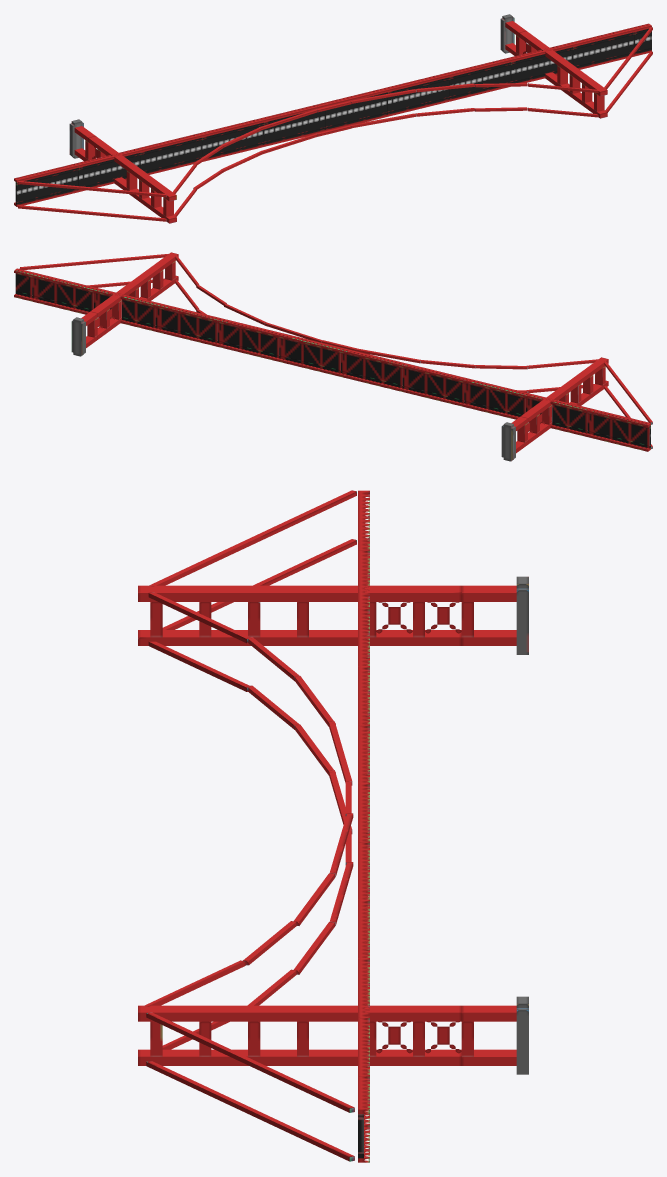
Rendered from golden_gate_bridge_matthew_zirkle_materialized.obj.
3 renders of one model, top to bottom at view 1: azimuth 30°, elevation 25°; view 2: azimuth 150°, elevation 25°; view 3: azimuth 270°, elevation 25°, orthographic. The views are drawn at different scales.
Parts seen in each view (by area): view 1: GLTF_37, GLTF_44, GLTF_39, GLTF_7, GLTF_42, GLTF_40, GLTF_21, GLTF_3, GLTF_41, GLTF_38, GLTF_43, GLTF_36 (+15 smaller); view 2: GLTF_7, GLTF_42, GLTF_38, GLTF_41, GLTF_39, GLTF_44, GLTF_40, GLTF_37, GLTF_21, GLTF_3, GLTF_36, GLTF_43 (+17 smaller); view 3: GLTF_3, GLTF_21, GLTF_22, GLTF_5, GLTF_88, GLTF_28, GLTF_27, GLTF_98, GLTF_104, GLTF_101.
Boxes of the visible parts, <box> form: GLTF_37: <box>140,140,202,171</box>; GLTF_44: <box>573,34,634,66</box>; GLTF_39: <box>326,97,387,127</box>; GLTF_7: <box>15,170,78,202</box>; GLTF_42: <box>449,64,511,96</box>; GLTF_40: <box>264,110,325,142</box>; GLTF_21: <box>519,31,607,96</box>; GLTF_3: <box>88,136,176,201</box>; GLTF_41: <box>388,79,449,112</box>; GLTF_38: <box>202,125,264,157</box>; GLTF_43: <box>511,49,573,81</box>; GLTF_36: <box>78,155,140,186</box>; GLTF_7: <box>587,413,650,446</box>; GLTF_42: <box>155,308,217,340</box>; GLTF_38: <box>402,368,464,400</box>; GLTF_41: <box>217,323,279,355</box>; GLTF_39: <box>279,338,340,370</box>; GLTF_44: <box>32,278,93,310</box>; GLTF_40: <box>341,353,402,385</box>; GLTF_37: <box>464,383,525,414</box>; GLTF_21: <box>90,252,178,317</box>; GLTF_3: <box>520,357,608,422</box>; GLTF_36: <box>526,398,587,431</box>; GLTF_43: <box>94,293,155,325</box>; GLTF_3: <box>138,585,461,601</box>; GLTF_21: <box>138,1005,461,1021</box>; GLTF_22: <box>138,1049,461,1065</box>; GLTF_5: <box>138,630,461,645</box>; GLTF_88: <box>146,1061,354,1161</box>; GLTF_28: <box>146,1012,354,1112</box>; GLTF_27: <box>149,490,356,586</box>; GLTF_98: <box>162,539,356,629</box>; GLTF_104: <box>461,1005,516,1021</box>; GLTF_101: <box>461,585,516,601</box>.
Size of the model in its own units: 30 by 1.6 by 8.
Materials: 1 (1 with a texture image).
